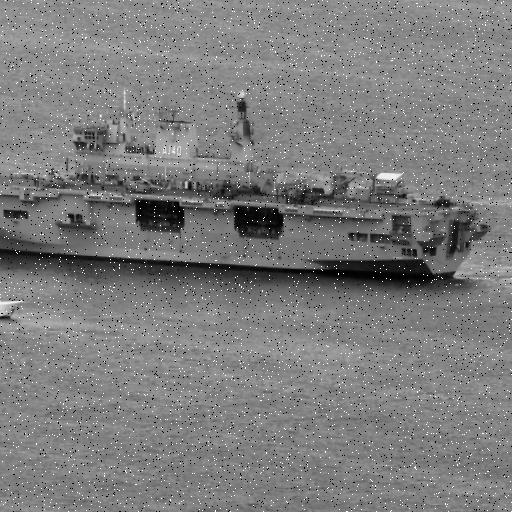Portanaves: (1, 82, 490, 288)
